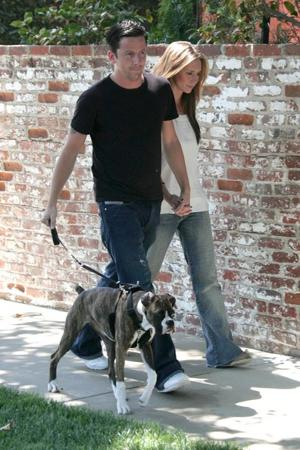person: (44, 20, 194, 393)
